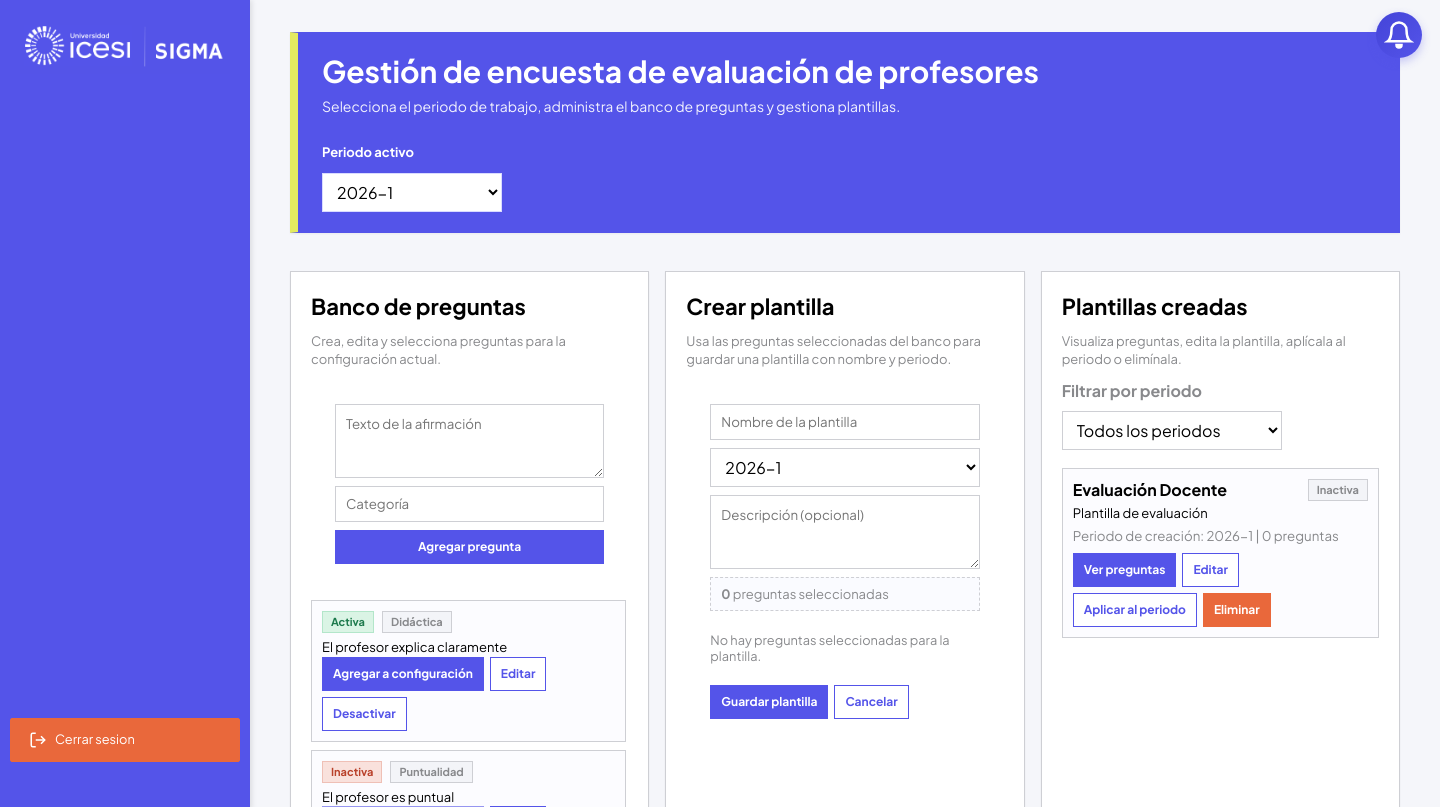
Test: GestionEncuestaProfesoresHU027 › permite expandir preguntas de plantilla
Expected: the text "Evaluación Docente" is shown, top-left (1073, 480), bottom-right (1227, 500)
Click the button "Ver preguntas" at point(1125, 570), box top-left (1073, 552), bottom-right (1176, 586)
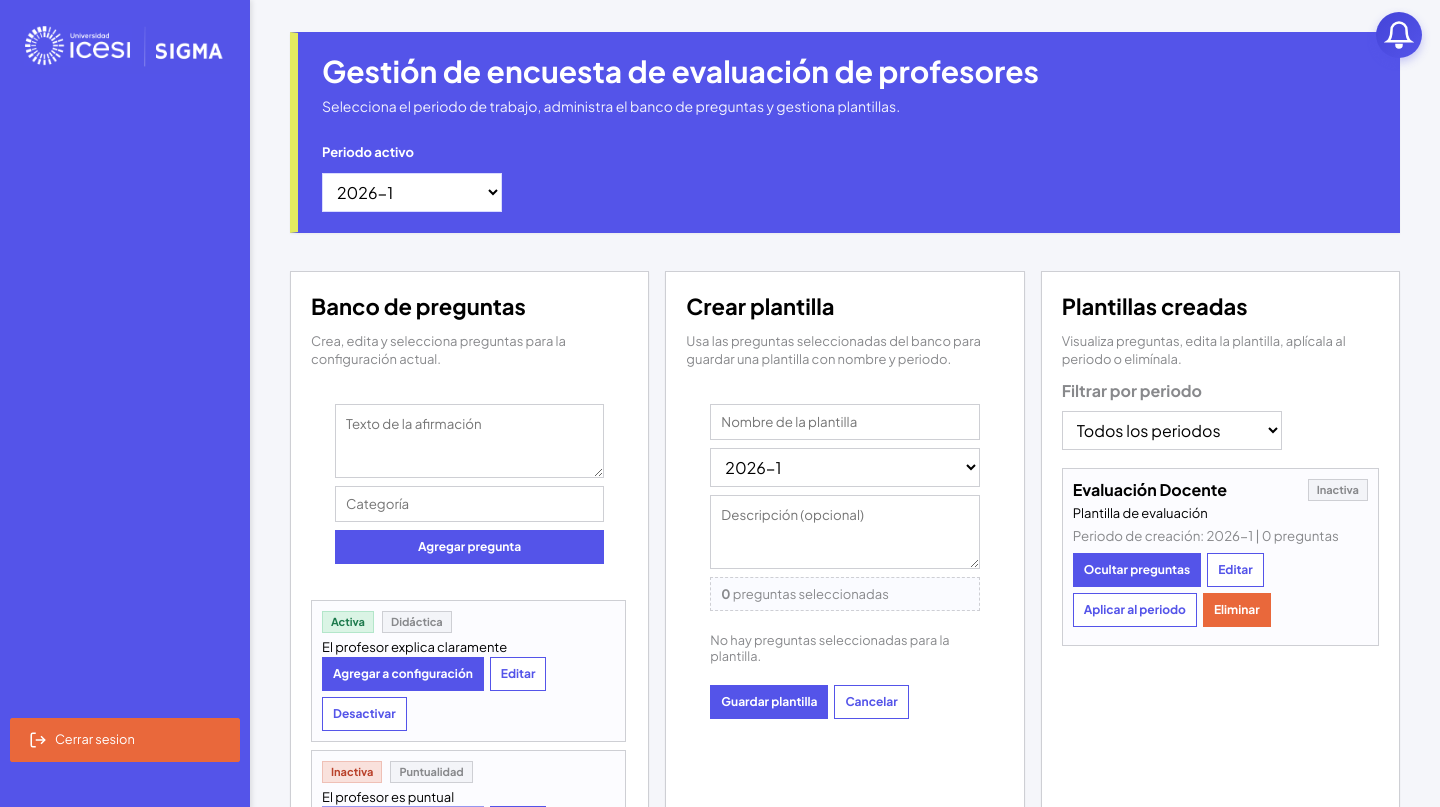
Expected: the button "Ocultar preguntas" is shown, top-left (1073, 552), bottom-right (1201, 586)
